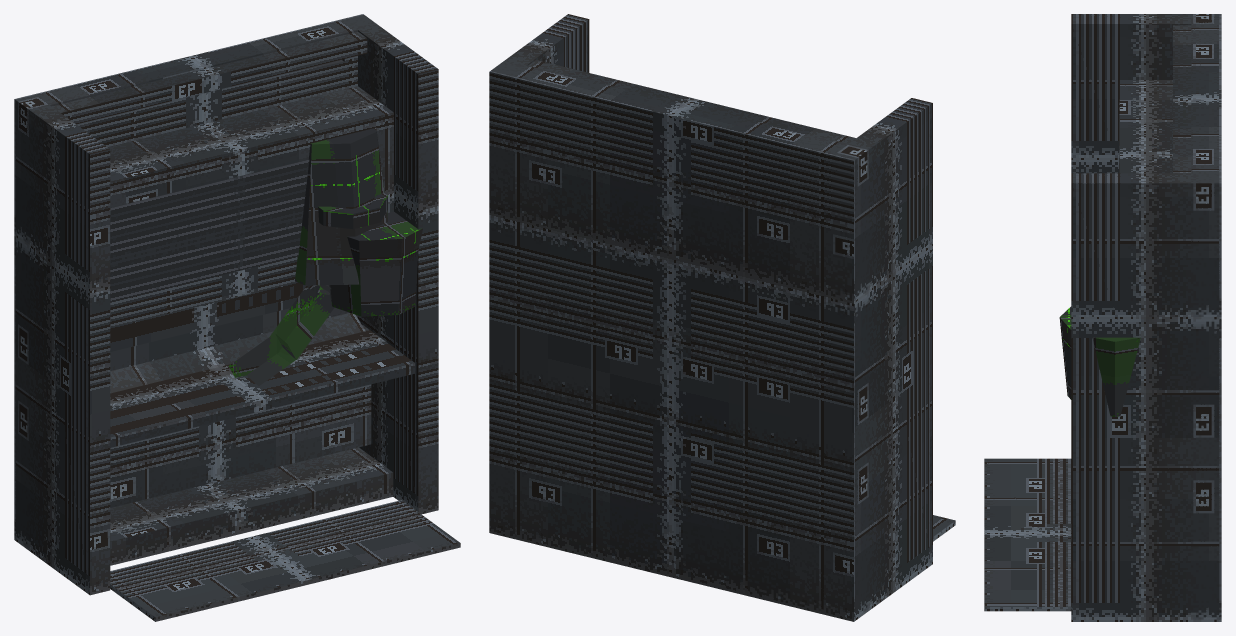
The model's file is eps_state_dormant.glb.
3 renders of one model, left to right at view 1: azimuth 30°, elevation 25°; view 2: azimuth 150°, elevation 25°; view 3: azimuth 270°, elevation 25°, orthographic. The views are drawn at different scales.
Visible parts, largest first — view 1: eps_state_dormant; view 2: eps_state_dormant; view 3: eps_state_dormant.
Boxes of the visible parts, left/top/right/bottom form: eps_state_dormant: left=14, top=14, right=460, bottom=621; eps_state_dormant: left=489, top=14, right=955, bottom=621; eps_state_dormant: left=984, top=14, right=1221, bottom=621.
Bounding box in the file's own units: 2.46 × 2.9 × 1.42.
5 materials, 4 textured.
